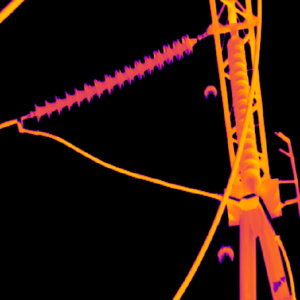insulator: (32, 31, 196, 120), (225, 33, 260, 189)
